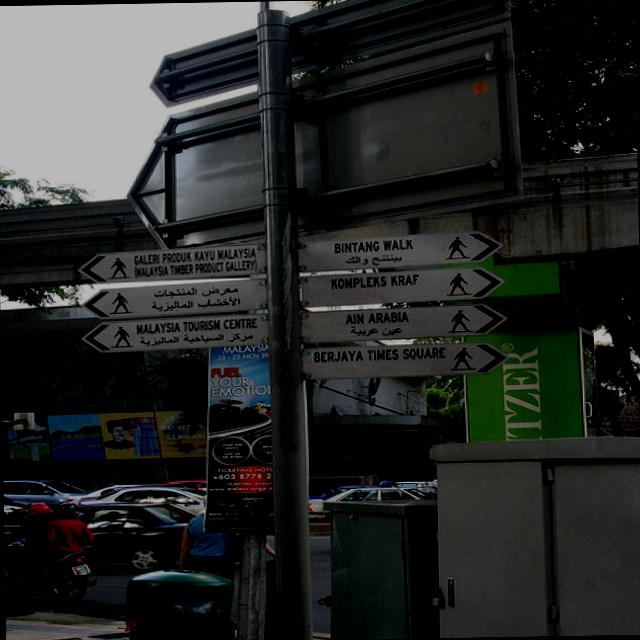Vehicle: (48, 501, 204, 575), (82, 487, 204, 529), (306, 486, 433, 520), (24, 551, 96, 602), (66, 482, 172, 505), (3, 476, 89, 504), (388, 480, 438, 500), (3, 492, 28, 532), (162, 479, 208, 488)
